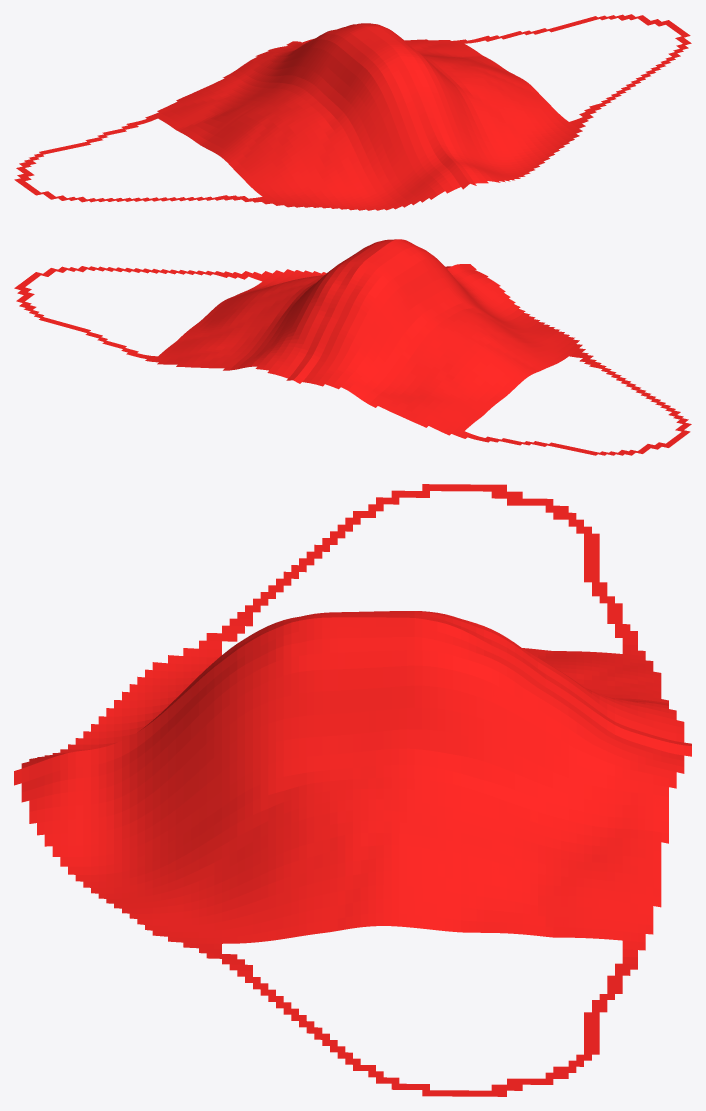
The model's file is redMask.gltf.
The picture shows the model from 3 angles, top to bottom: view 1: azimuth 30°, elevation 25°; view 2: azimuth 150°, elevation 25°; view 3: azimuth 270°, elevation 25°; orthographic projection. The views are drawn at different scales.
Parts seen in each view (by area): view 1: Plane.001; view 2: Plane.001; view 3: Plane.001.
Boxes of the visible parts, x1,y1,x2,y2 form: Plane.001: (14, 14, 691, 210); Plane.001: (14, 239, 691, 455); Plane.001: (14, 484, 691, 1096).
Size of the model in its own units: 7.83 by 1.15 by 3.67.
